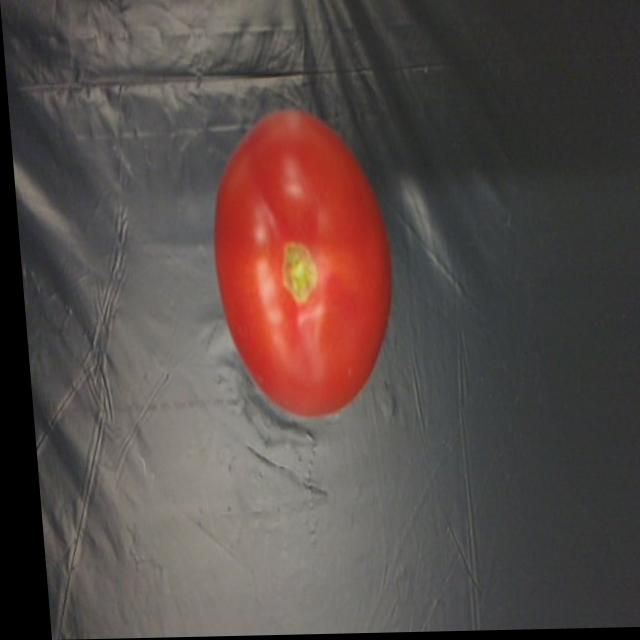kirmizi: (198, 97, 397, 439)
